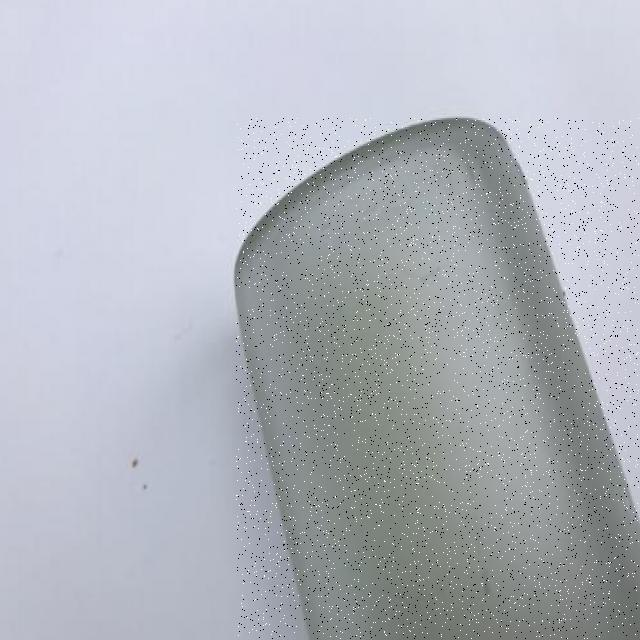glass: (237, 118, 640, 640)
